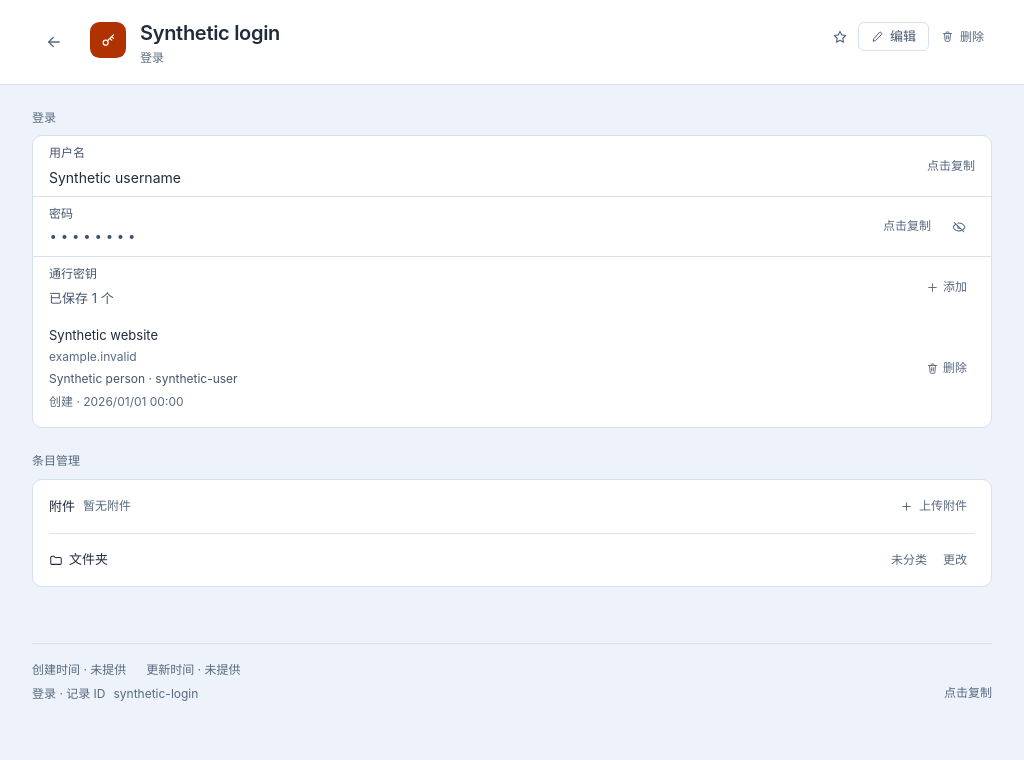
Test: retains the saved passkey and reports failure when removal fails
Click the button with aria-label "删除通行密钥 Synthetic website" at (946, 368), box [918,354,975,382]
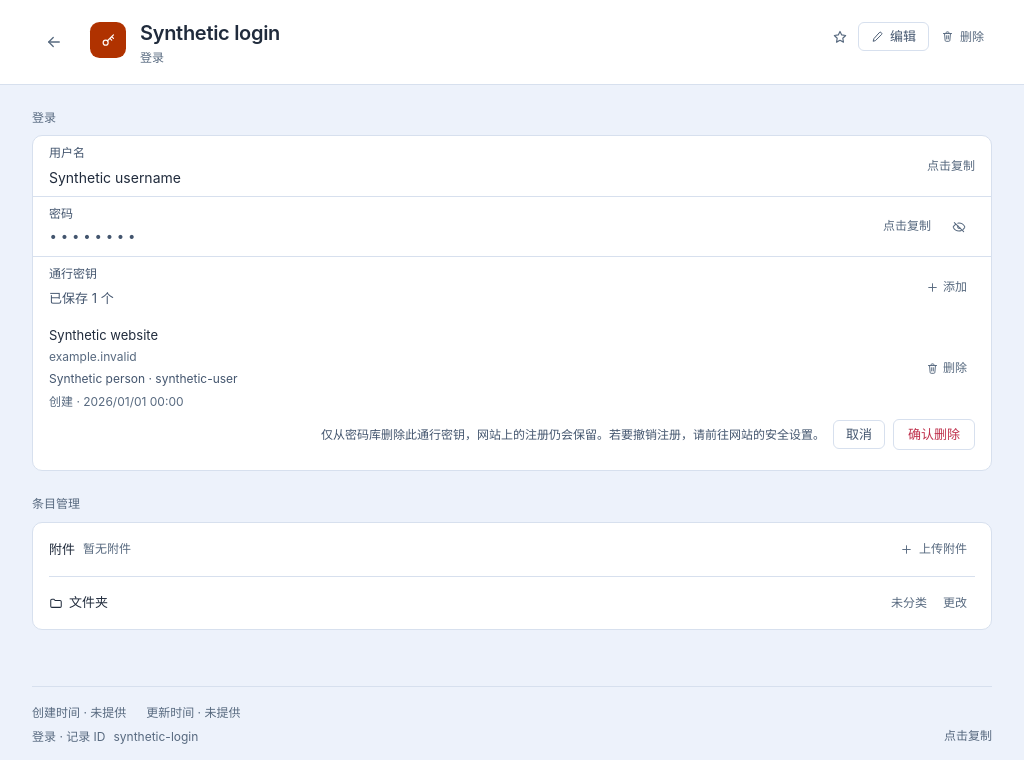
Click the button "确认删除" at (934, 435), box [893,419,975,450]
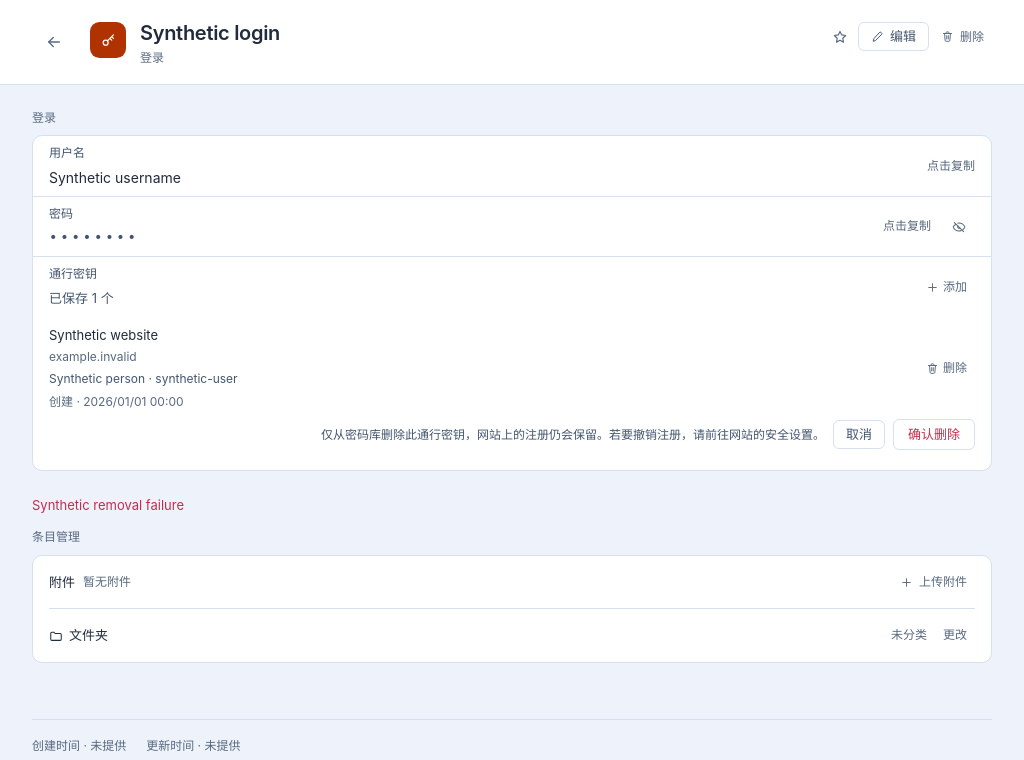
Expected: the element named "通行密钥" shows "已保存 1 个", [49,257,975,470]
Result: the text "Synthetic removal failure" is shown at [32,497,184,513]
